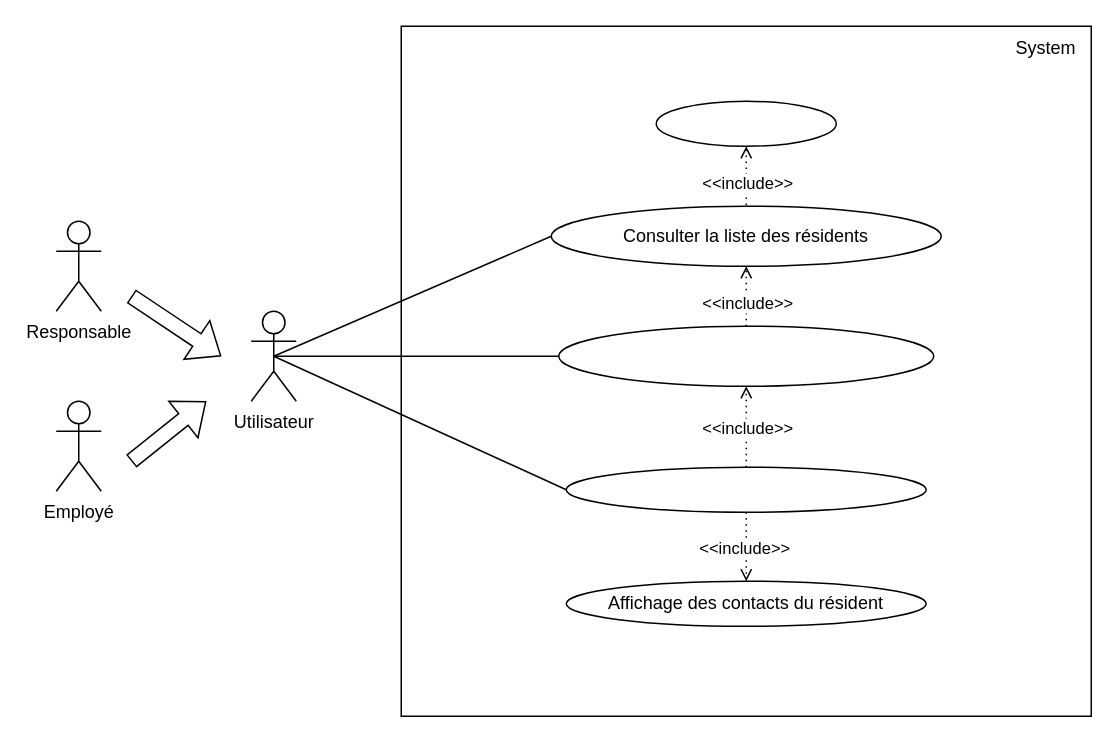
Some shapes in this 1118 by 743 pixel diagram are drawn without their labels. The shapes that lost their labels are listed below. From the top down, each one's centre as x and y in pixels, then its label:
point 745,123: Connexion
point 745,355: Sélectionner un résident
point 745,489: Cliquer sur "Contacts"
